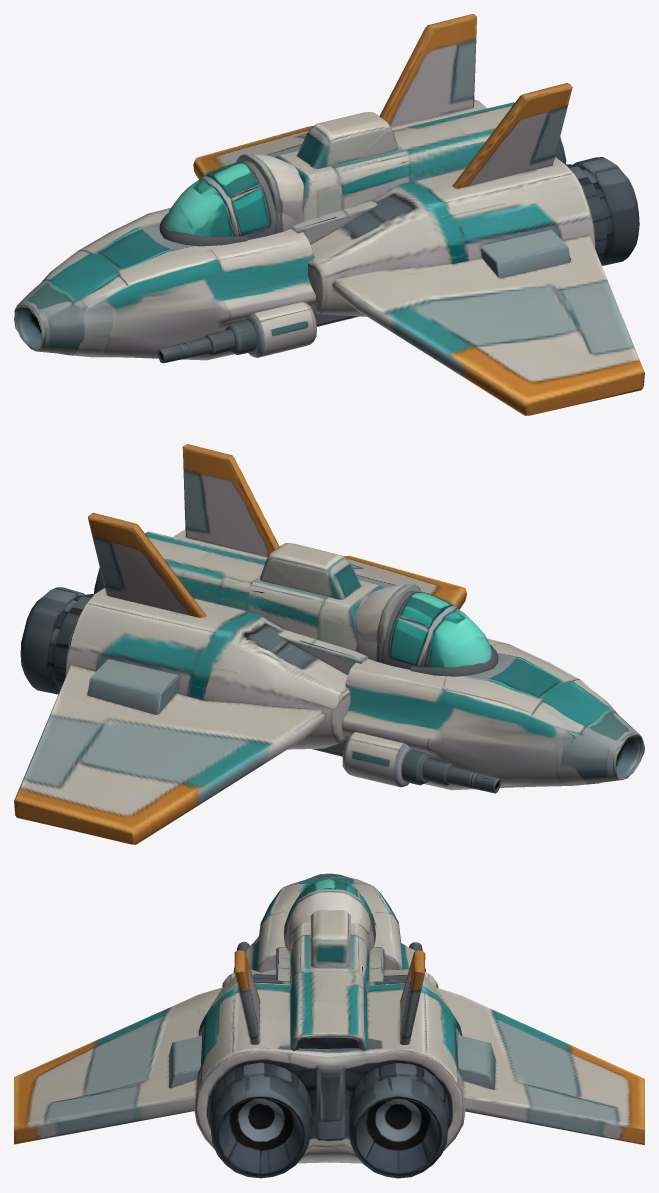
File: player.glb
3 renders of one model, top to bottom at view 1: azimuth 30°, elevation 25°; view 2: azimuth 150°, elevation 25°; view 3: azimuth 270°, elevation 25°, orthographic. The views are drawn at different scales.
Visible parts, largest first — view 1: geometry_0; view 2: geometry_0; view 3: geometry_0.
Boxes of the visible parts, x1=… form: geometry_0: x1=14, y1=14, x2=644, y2=415; geometry_0: x1=14, y1=444, x2=644, y2=844; geometry_0: x1=14, y1=873, x2=644, y2=1178.
Size of the model in its own units: 0.9581 by 0.3505 by 1.
Materials: 1 (1 with a texture image).
